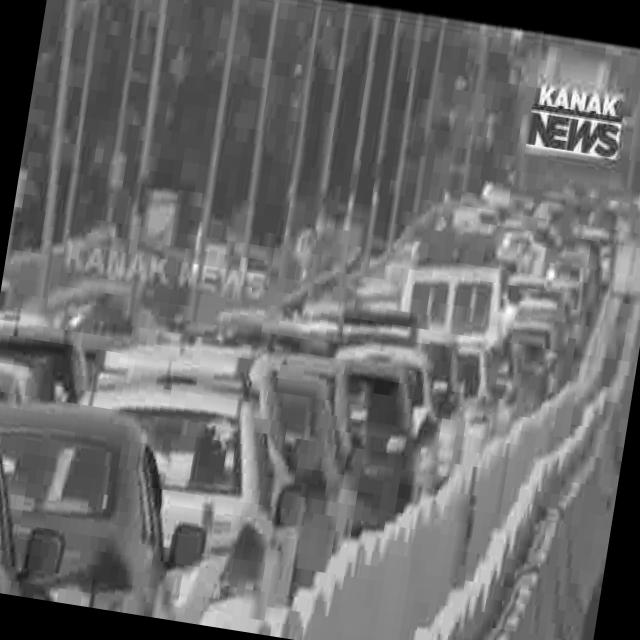ambulance: (400, 219, 511, 344)
